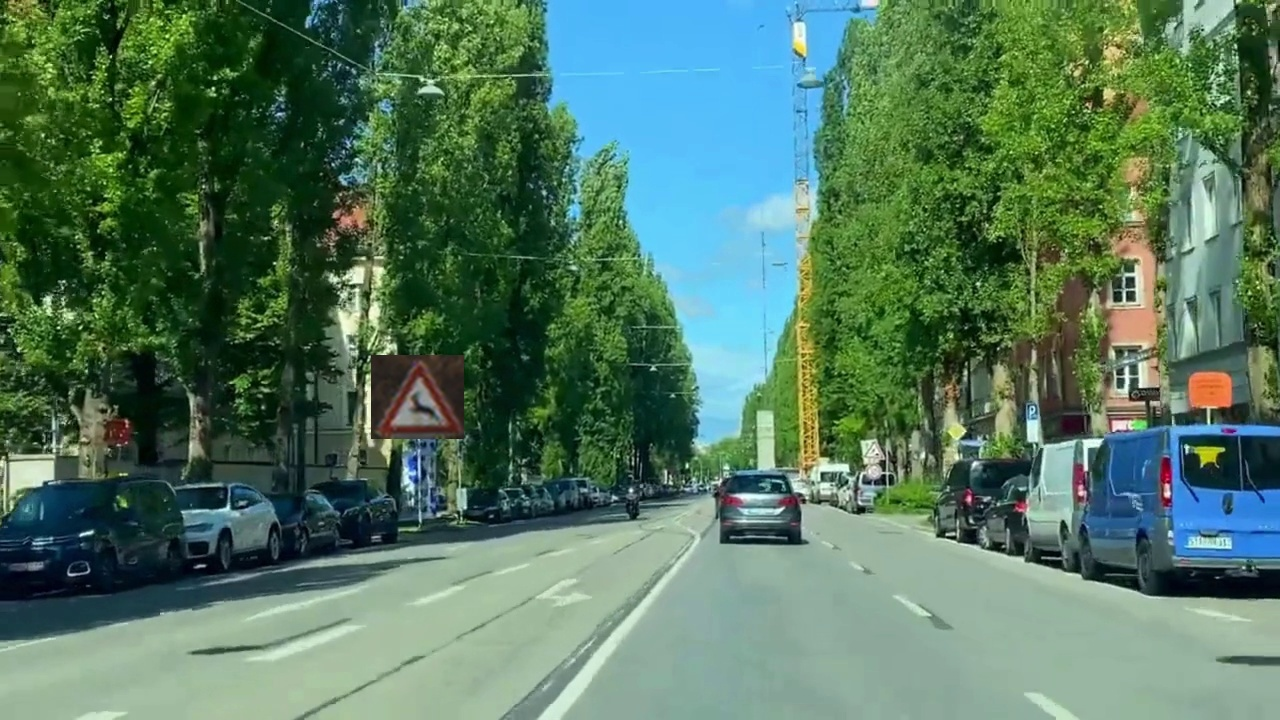Wild animals: (371, 355, 464, 439)
